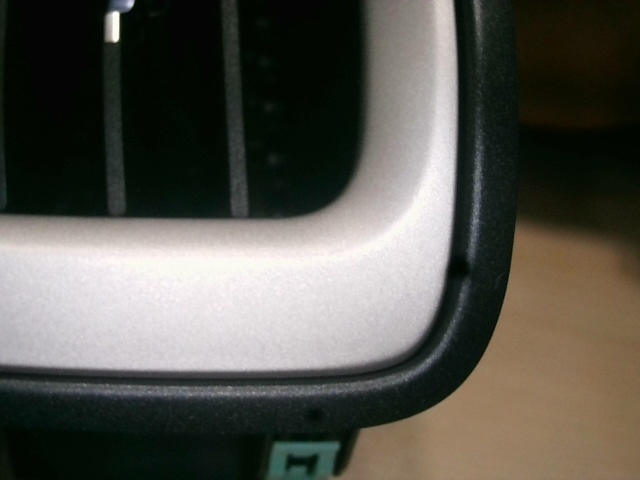NG: (484, 268, 511, 296)
